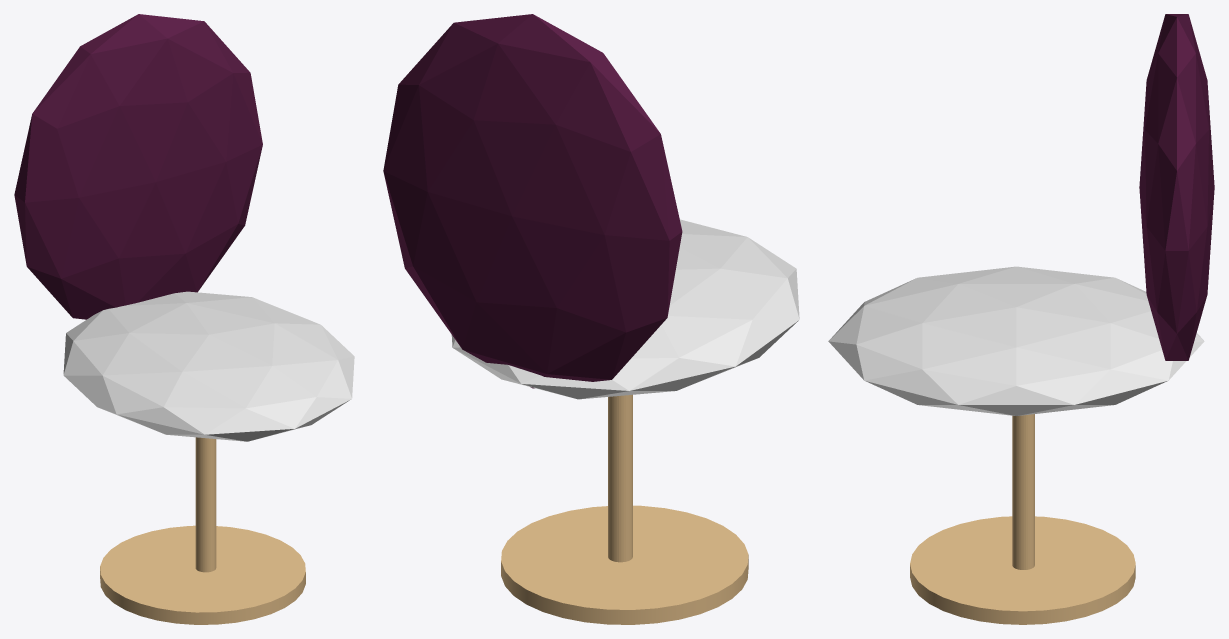
3 renders of one model, left to right at view 1: azimuth 30°, elevation 25°; view 2: azimuth 150°, elevation 25°; view 3: azimuth 270°, elevation 25°, orthographic. The views are drawn at different scales.
Parts seen in each view (by area): view 1: Icosphere, Icosphere.001, Cylinder.001, Cylinder; view 2: Icosphere, Cylinder.001, Icosphere.001, Cylinder; view 3: Icosphere.001, Icosphere, Cylinder.001, Cylinder.
Part boxes in pixels (left/top/right/bottom): Icosphere: left=14, top=14, right=262, bottom=319; Icosphere.001: left=63, top=291, right=354, bottom=441; Cylinder.001: left=100, top=525, right=305, bottom=624; Cylinder: left=195, top=437, right=216, bottom=572; Icosphere: left=383, top=14, right=682, bottom=388; Cylinder.001: left=501, top=505, right=748, bottom=624; Icosphere.001: left=451, top=219, right=799, bottom=399; Cylinder: left=608, top=394, right=632, bottom=562; Icosphere.001: left=828, top=266, right=1204, bottom=415; Icosphere: left=1139, top=14, right=1214, bottom=360; Cylinder.001: left=910, top=516, right=1135, bottom=624; Cylinder: left=1012, top=414, right=1034, bottom=569.
Size of the model in its own units: 0.4049 by 0.8261 by 0.5133.
